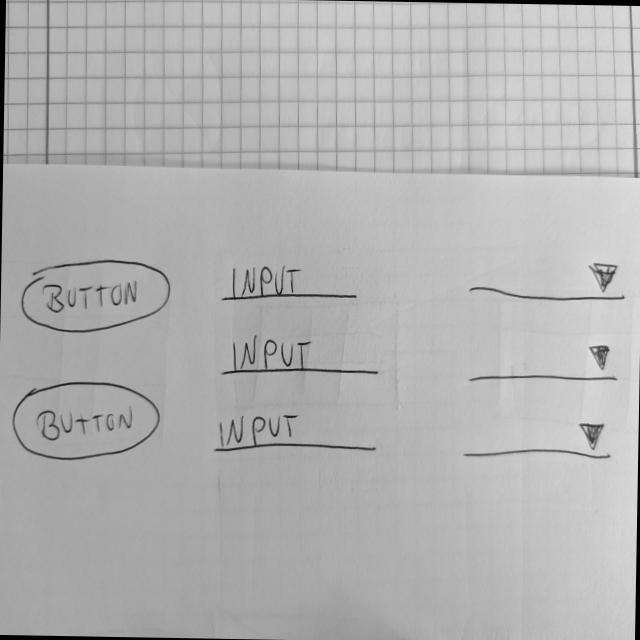button: (9, 377, 166, 464), (19, 256, 173, 337)
input: (211, 407, 383, 459), (219, 333, 385, 385), (221, 258, 361, 310)
select: (464, 334, 622, 393), (466, 254, 632, 308), (457, 417, 616, 467)
